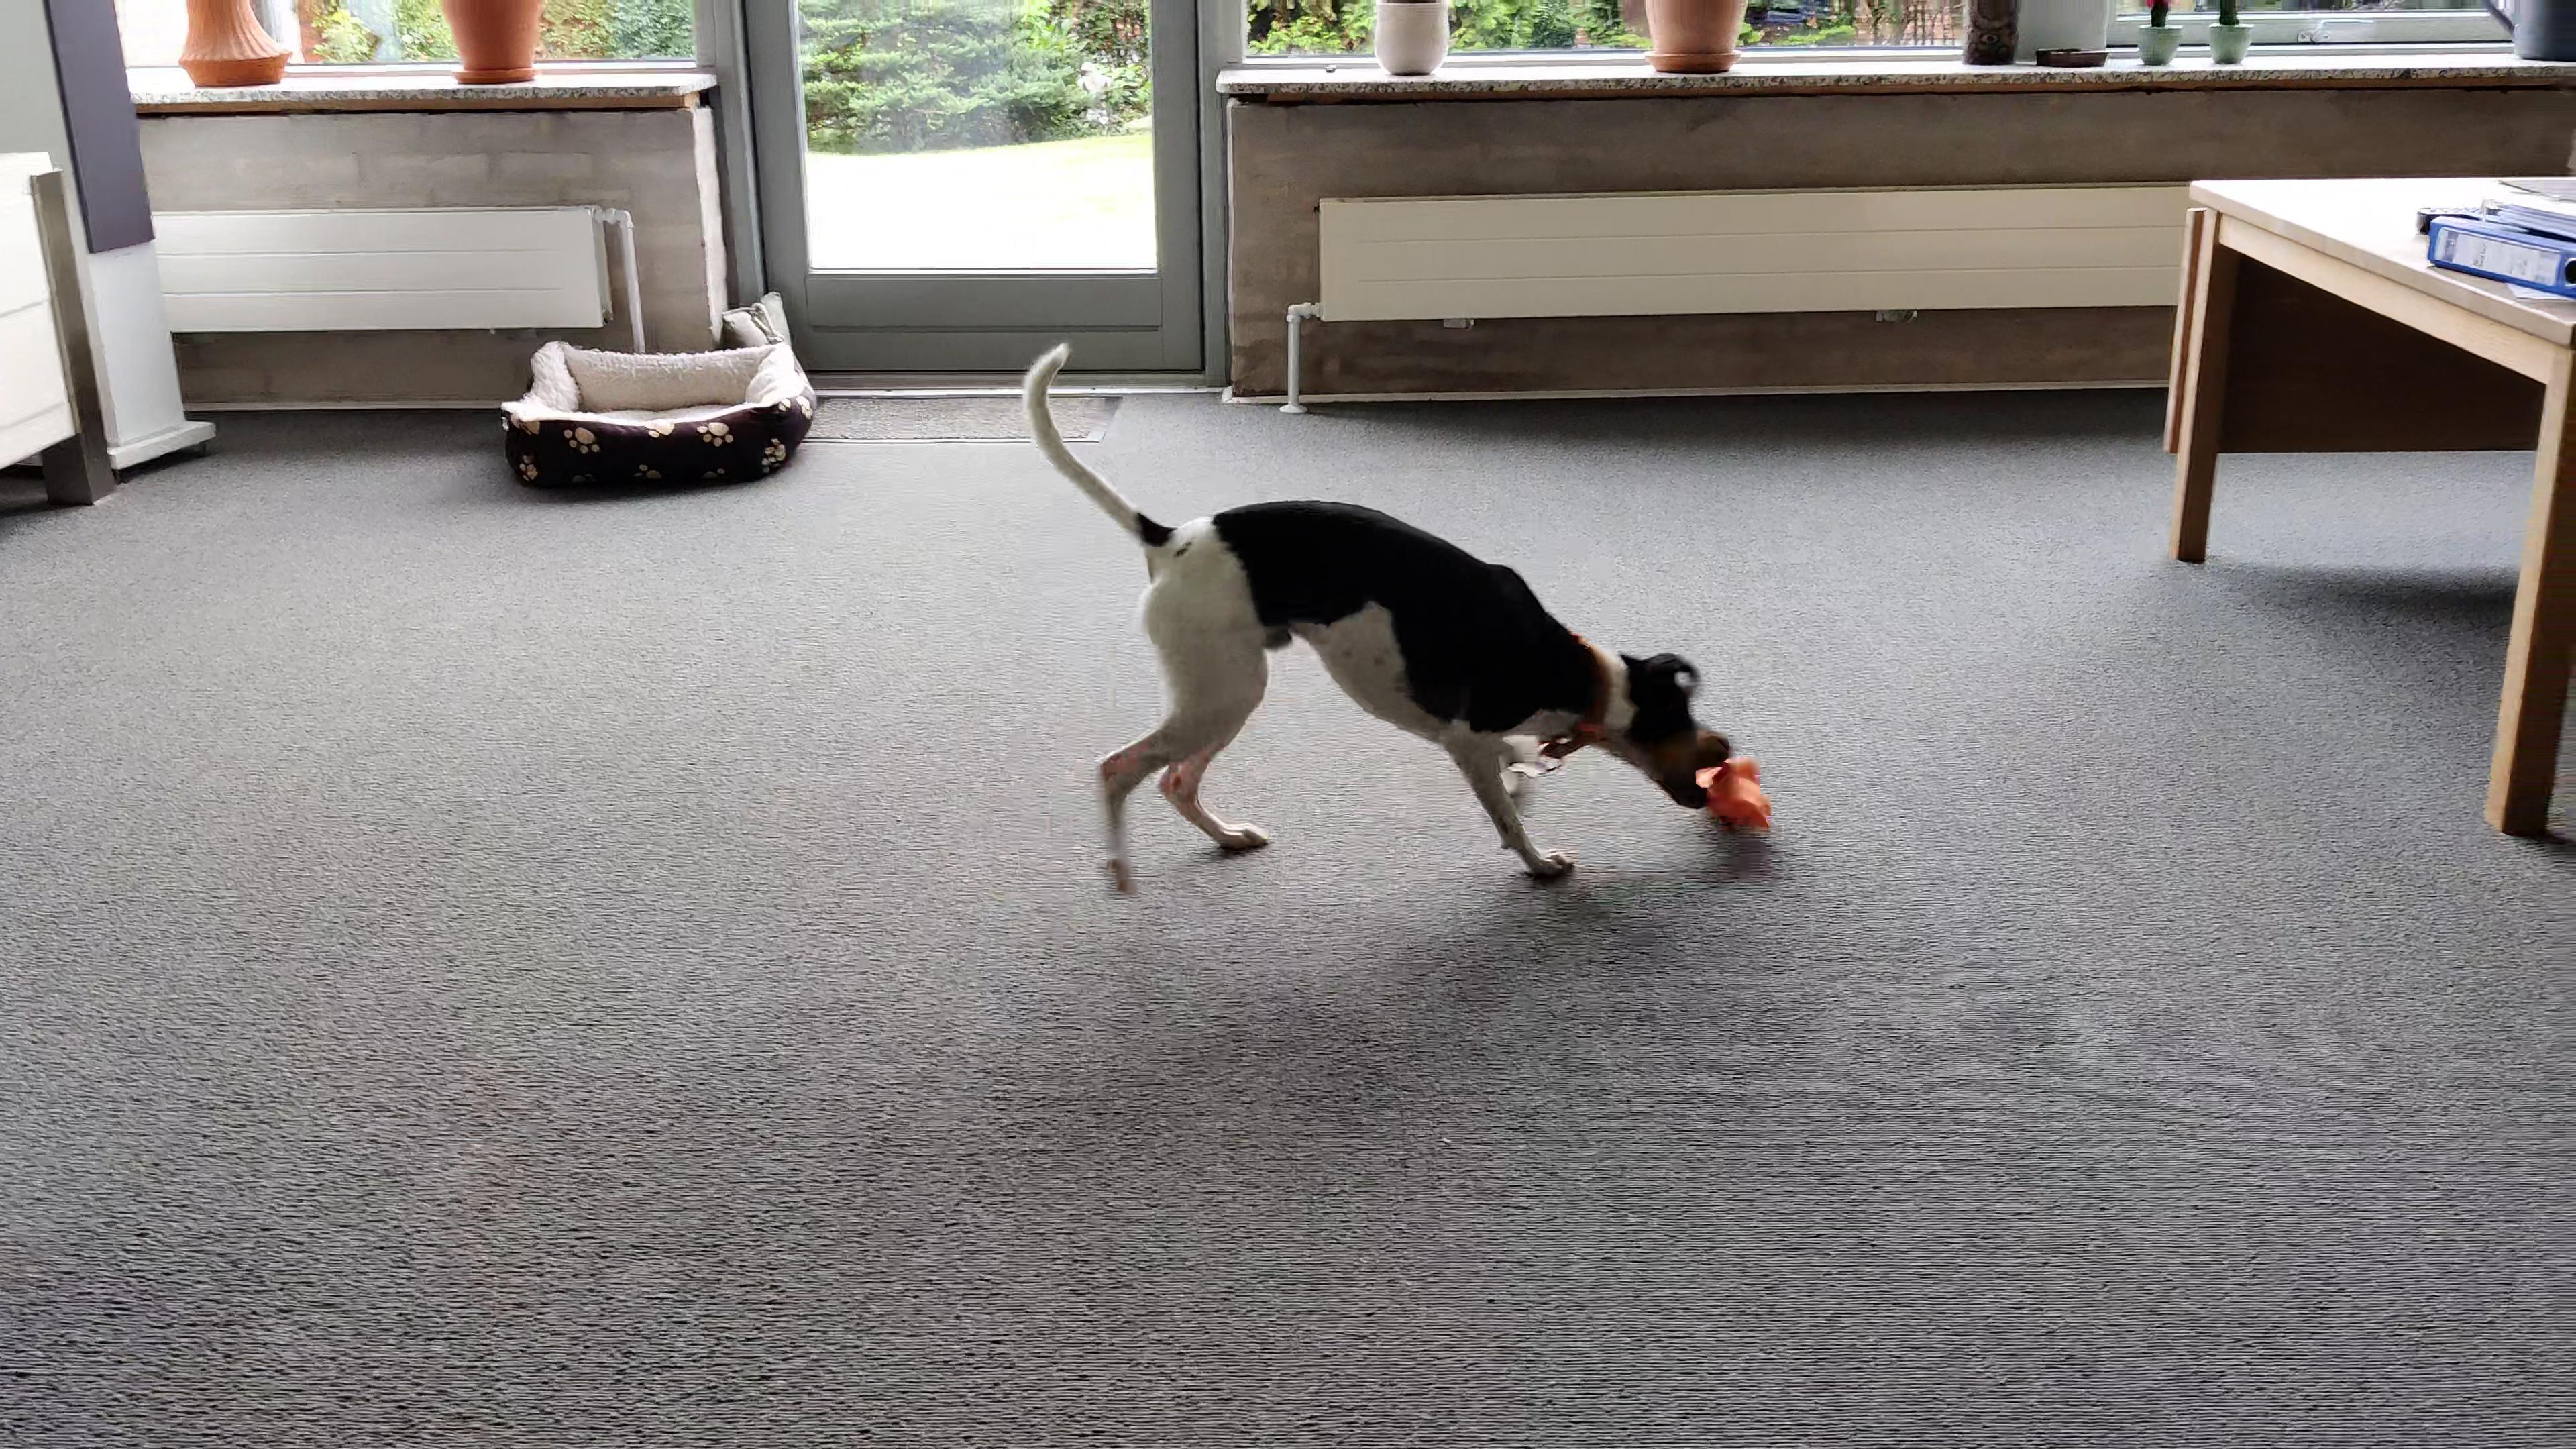Dog: (1007, 333, 1737, 895)
